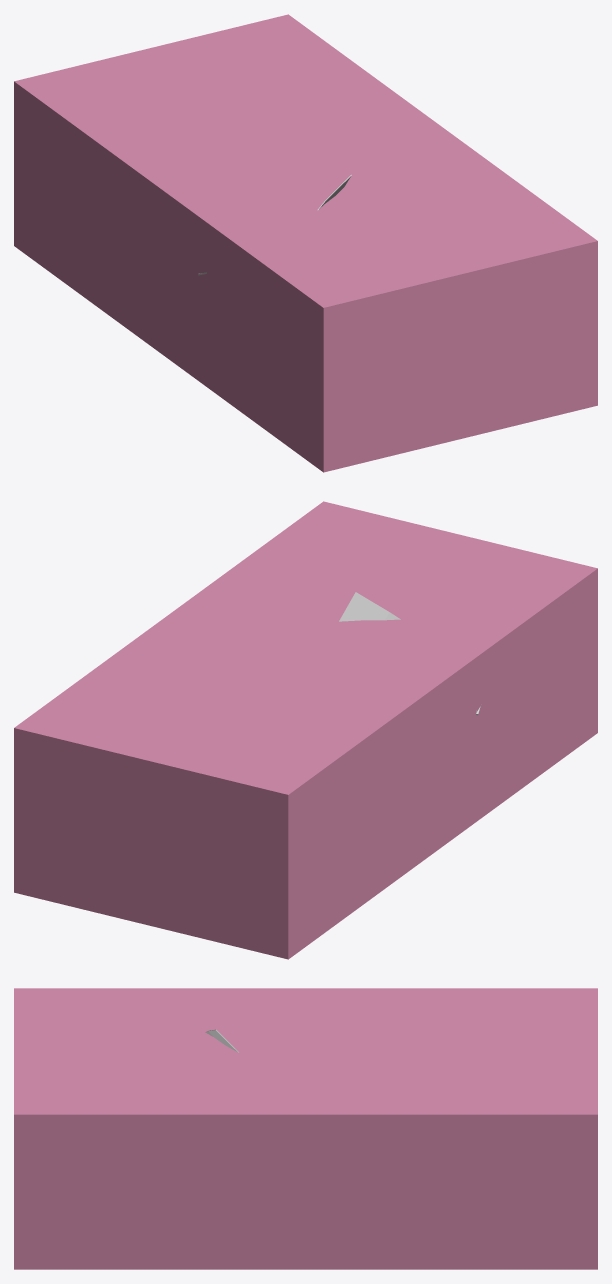
File: ind_bld_01.dae
The picture shows the model from 3 angles, top to bottom: view 1: azimuth 30°, elevation 25°; view 2: azimuth 150°, elevation 25°; view 3: azimuth 270°, elevation 25°; orthographic projection. The views are drawn at different scales.
Parts seen in each view (by area): view 1: Untitled; view 2: Untitled, ind_bld_a300; view 3: Untitled.
Part boxes in pixels (<box>): Untitled: <box>14,14,597,472</box>; Untitled: <box>14,501,597,959</box>; ind_bld_a300: <box>339,592,481,715</box>; Untitled: <box>14,988,597,1269</box>.
Bounding box in the file's own units: 21.43 × 41.42 × 13.77.
